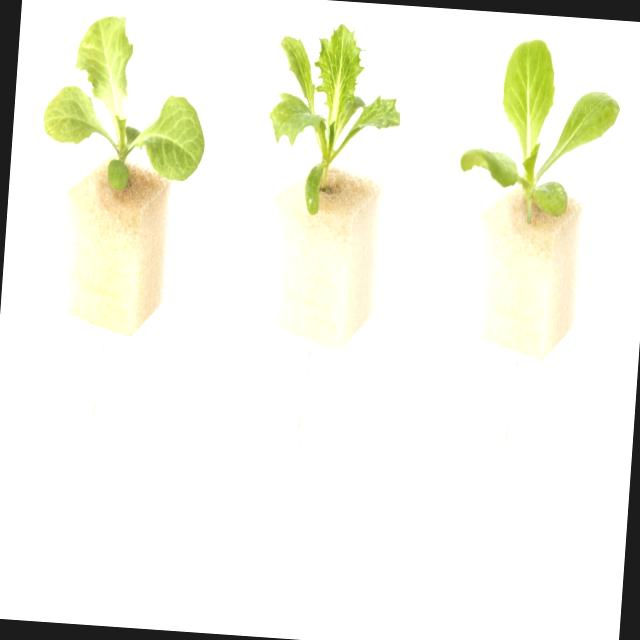verde: (460, 39, 618, 222), (44, 16, 204, 188), (269, 23, 399, 213)
